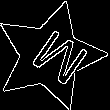M_SW: (15, 22, 85, 90)
